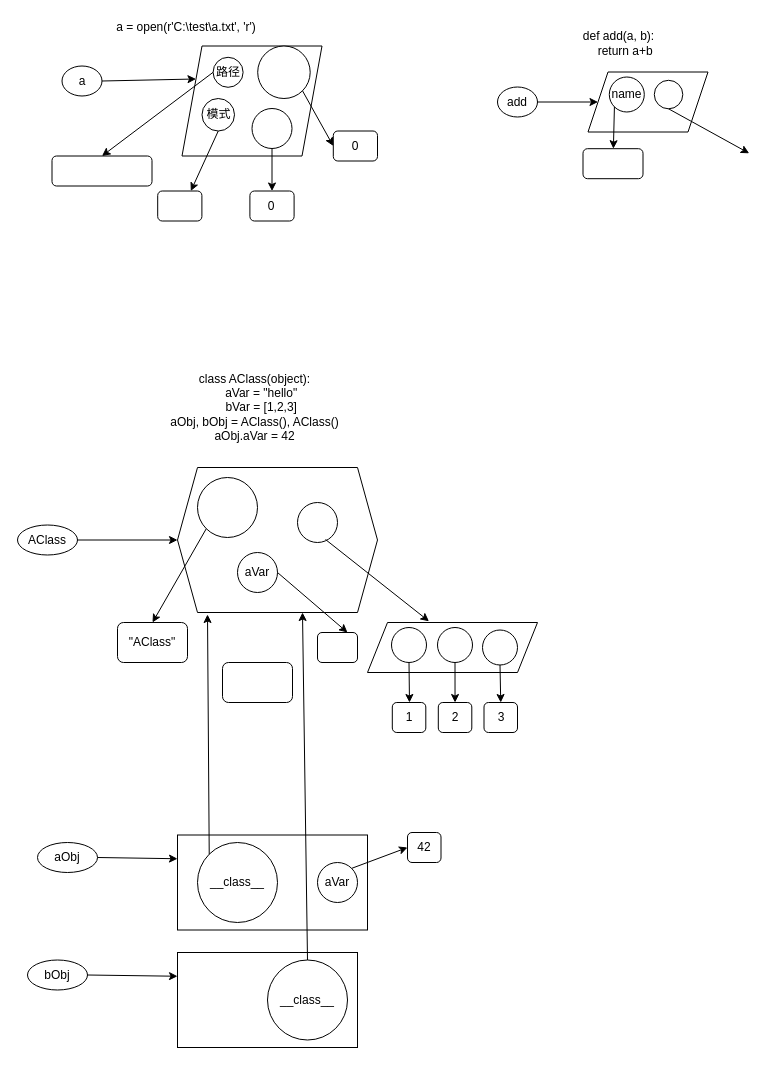
Some shapes in this 775 by 1065 pixel diagram are drawn without their labels. The centre of each missing label's shape, as x and y in pixels:
"add": (612,163)
"hello": (337,647)
"r": (179,205)
"testVar": (257,682)
__name__: (227,507)
bVar: (317,522)
r"C:\test\a.txt": (101,170)
偏移量: (271,128)
参数: (668,94)
当前位置: (283,71)
